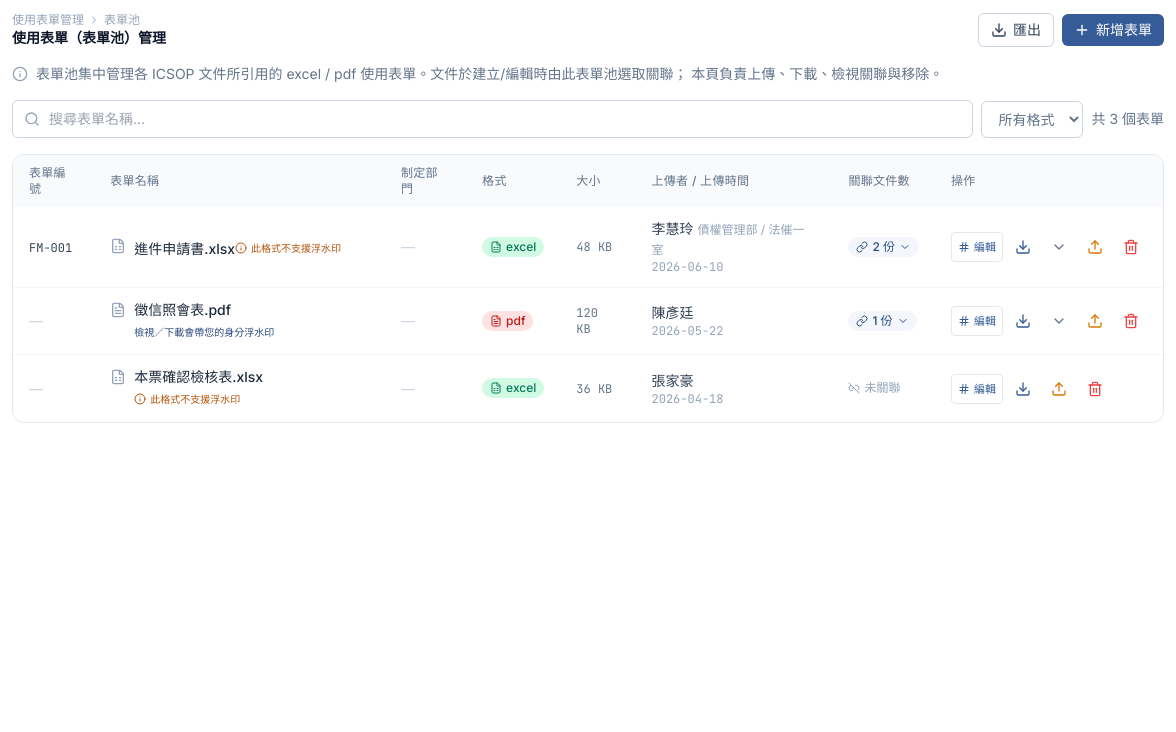
Test case: UsageFormManagementPage — 使用表單管理（F018） › TS-F018-010 展開關聯文件數 → 顯示使用此表單的文件
Expected: the text "進件申請書.xlsx" is shown, [134,240,235,256]
# uf1 之關聯 pill（2 份）
Click the button "2 份" at {"x": 884, "y": 246}, box [848,236,919,256]
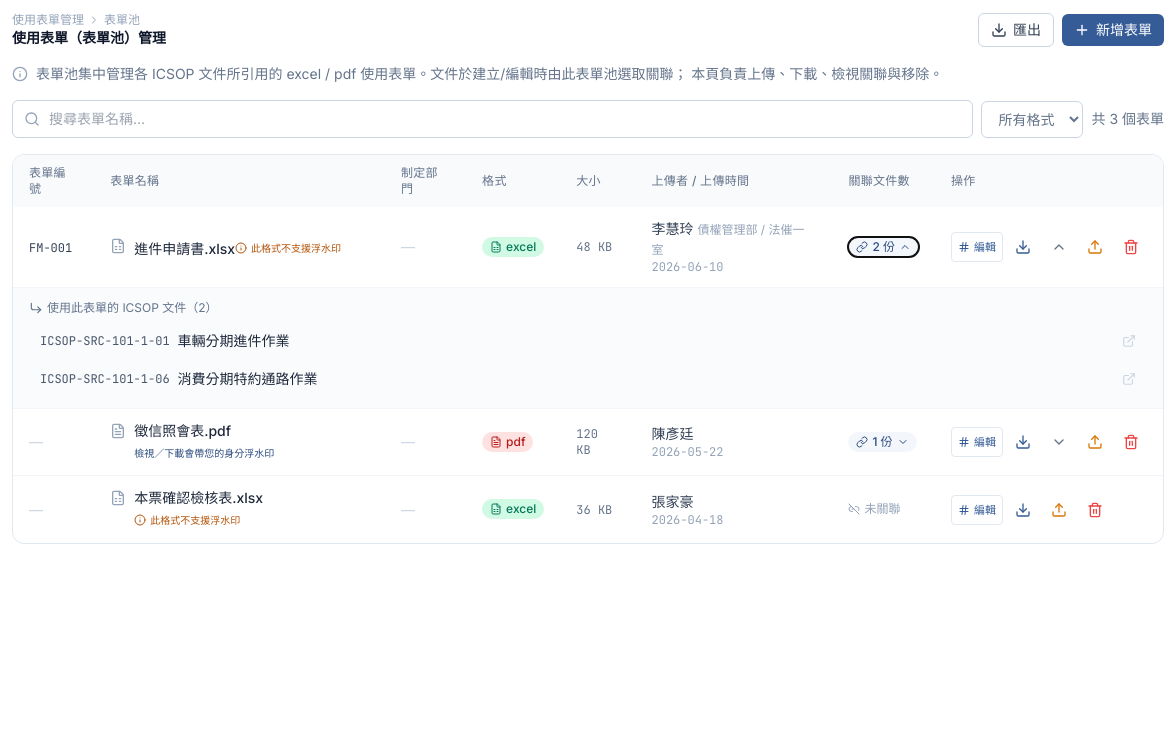
Result: the text "ICSOP-SRC-101-1-01" is shown at [40,333,170,349]
Result: the text "車輛分期進件作業" is shown at [178,331,290,351]
Result: the text "消費分期特約通路作業" is shown at [178,369,318,389]
